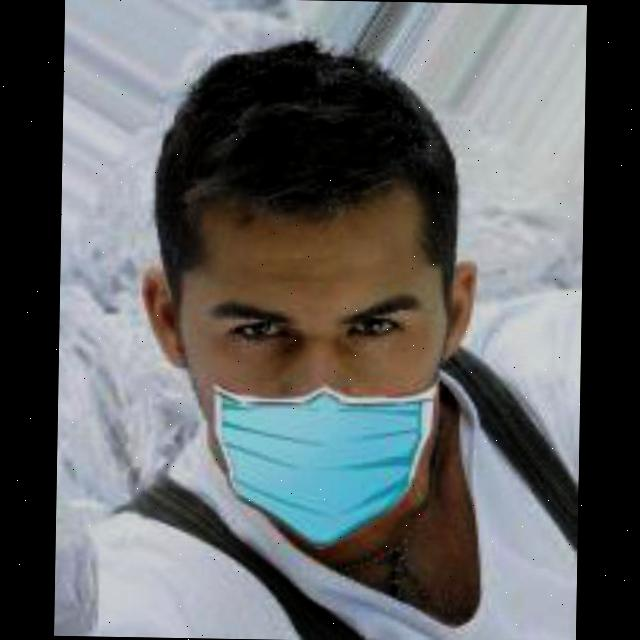suspicion: (108, 70, 461, 498)
